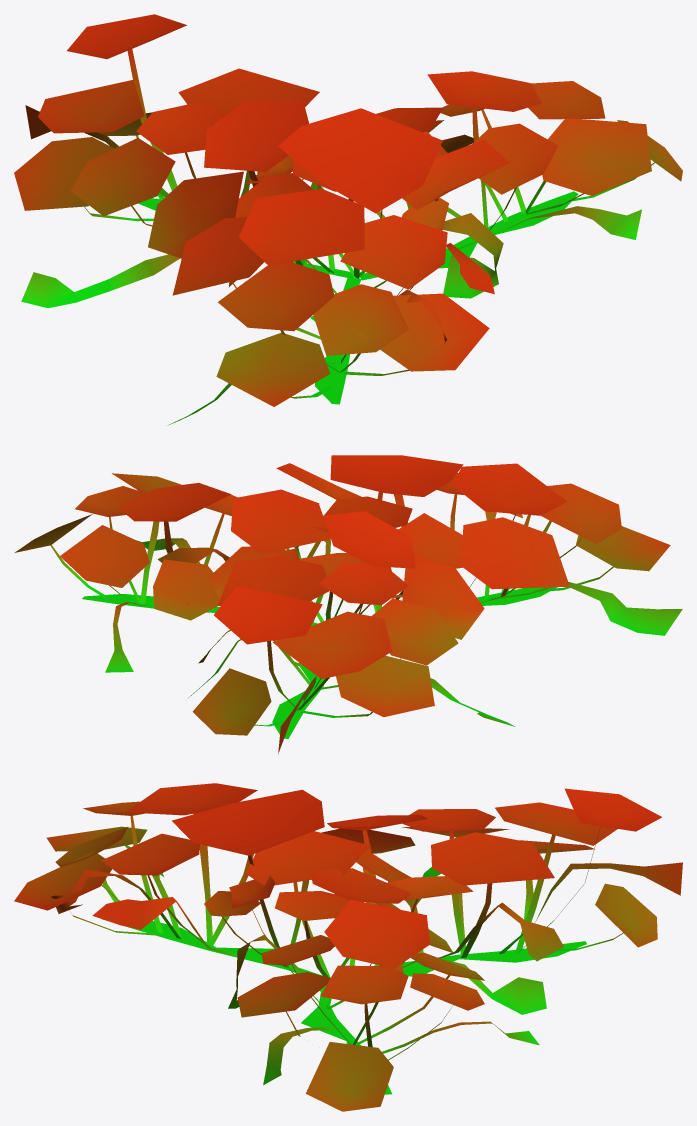
Rendered from Var4_LOD1.fbx.
3 renders of one model, top to bottom at view 1: azimuth 30°, elevation 25°; view 2: azimuth 150°, elevation 25°; view 3: azimuth 270°, elevation 25°, orthographic. The views are drawn at different scales.
Parts seen in each view (by area): view 1: _175f_Var4_LOD1; view 2: _175f_Var4_LOD1; view 3: _175f_Var4_LOD1.
Boxes of the visible parts, bbox=[...] form: _175f_Var4_LOD1: bbox=[14, 14, 682, 425]; _175f_Var4_LOD1: bbox=[14, 455, 682, 754]; _175f_Var4_LOD1: bbox=[14, 783, 682, 1111].
Bounding box in the file's own units: 55.41 × 15.25 × 56.
